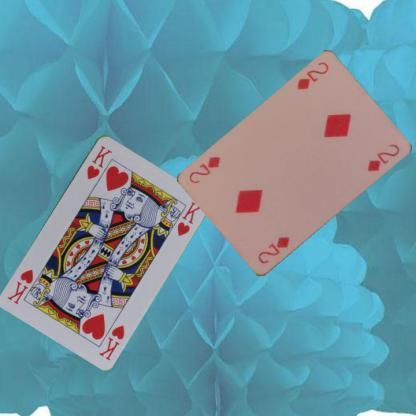2d: (294, 58, 330, 92), (254, 234, 292, 266)
Kh: (96, 322, 126, 362), (84, 143, 112, 181)
